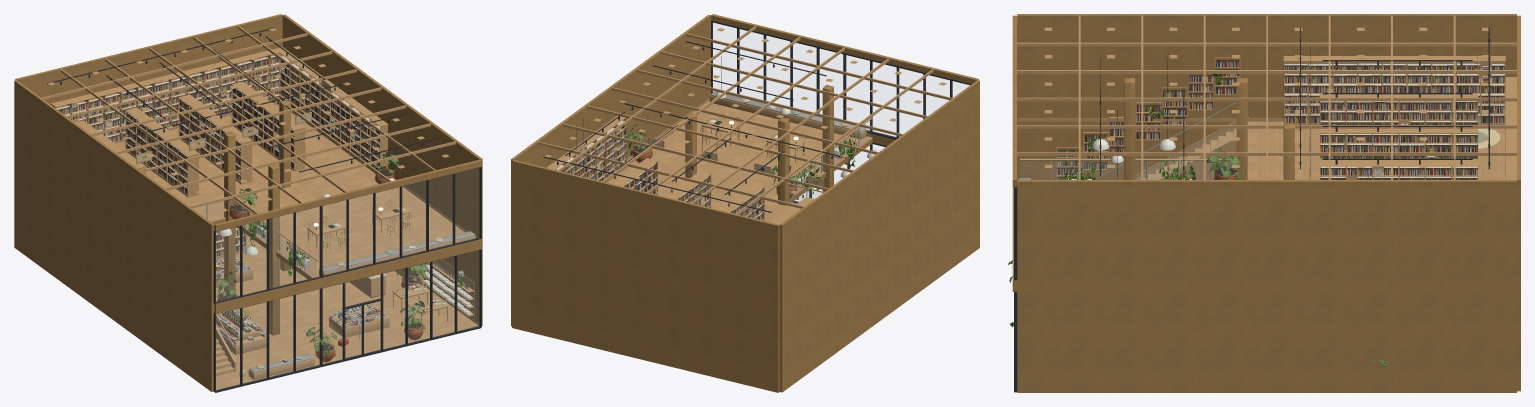
The model's file is shanlan.glb.
The picture shows the model from 3 angles, left to right: view 1: azimuth 30°, elevation 25°; view 2: azimuth 150°, elevation 25°; view 3: azimuth 270°, elevation 25°; orthographic projection. The views are drawn at different scales.
Visible parts, largest first — view 1: WALL_left_shl_wall, L2_shl_wood, L2_shl_floor2, L2_shl_books, WALL_right_shl_wall, shl_floor, WALL_front_shl_blackmetal, WALL_back_shl_wall, shl_wood, WALL_front_shl_wall, shl_wall, L2_shl_blackmetal (+9 smaller); view 2: WALL_back_shl_wall, WALL_left_shl_wall, L2_shl_wood, WALL_right_shl_wall, L2_shl_floor2, shl_wall, L2_shl_books, WALL_front_shl_blackmetal, WALL_front_shl_wall, L2_shl_blackmetal, L2_shl_fab_grey, L2_shl_pothos (+2 smaller); view 3: WALL_right_shl_wall, WALL_left_shl_wall, L2_shl_wood, L2_shl_books, L2_shl_floor2, shl_books, shl_wood, shl_wall, L2_shl_blackmetal, WALL_back_shl_wall, WALL_front_shl_wall, WALL_front_shl_blackmetal (+4 smaller).
Boxes of the visible parts, x1=… form: WALL_left_shl_wall: x1=14, y1=80, x2=214, y2=391; L2_shl_wood: x1=41, y1=26, x2=475, y2=275; L2_shl_floor2: x1=116, y1=104, x2=464, y2=277; L2_shl_books: x1=56, y1=54, x2=379, y2=194; WALL_right_shl_wall: x1=282, y1=14, x2=482, y2=325; shl_floor: x1=216, y1=235, x2=478, y2=389; WALL_front_shl_blackmetal: x1=213, y1=167, x2=481, y2=392; WALL_back_shl_wall: x1=15, y1=14, x2=282, y2=104; shl_wood: x1=216, y1=228, x2=474, y2=379; WALL_front_shl_wall: x1=214, y1=159, x2=481, y2=313; shl_wall: x1=211, y1=100, x2=311, y2=335; L2_shl_blackmetal: x1=46, y1=27, x2=439, y2=172; WALL_back_shl_wall: x1=512, y1=160, x2=779, y2=392; WALL_left_shl_wall: x1=779, y1=80, x2=979, y2=392; L2_shl_wood: x1=538, y1=26, x2=952, y2=224; WALL_right_shl_wall: x1=511, y1=14, x2=711, y2=326; L2_shl_floor2: x1=607, y1=100, x2=872, y2=222; shl_wall: x1=685, y1=85, x2=872, y2=206; L2_shl_books: x1=556, y1=120, x2=763, y2=219; WALL_front_shl_blackmetal: x1=711, y1=20, x2=971, y2=203; WALL_front_shl_wall: x1=711, y1=14, x2=978, y2=145; L2_shl_blackmetal: x1=543, y1=41, x2=846, y2=213; L2_shl_fab_grey: x1=710, y1=91, x2=865, y2=132; L2_shl_pothos: x1=793, y1=134, x2=857, y2=198; WALL_right_shl_wall: x1=1017, y1=180, x2=1516, y2=392; WALL_left_shl_wall: x1=1017, y1=14, x2=1516, y2=179; L2_shl_wood: x1=1017, y1=15, x2=1516, y2=179; L2_shl_books: x1=1284, y1=63, x2=1504, y2=179; L2_shl_floor2: x1=1247, y1=121, x2=1504, y2=179; shl_books: x1=1057, y1=60, x2=1239, y2=179; shl_wood: x1=1056, y1=57, x2=1248, y2=179; shl_wall: x1=1124, y1=78, x2=1294, y2=179; L2_shl_blackmetal: x1=1099, y1=27, x2=1490, y2=179; WALL_back_shl_wall: x1=1517, y1=15, x2=1520, y2=391; WALL_front_shl_wall: x1=1012, y1=15, x2=1017, y2=291; WALL_front_shl_blackmetal: x1=1014, y1=22, x2=1017, y2=392.
Size of the model in its own units: 14.41 by 8.44 by 18.47.
Materials: 28 (23 with a texture image).
